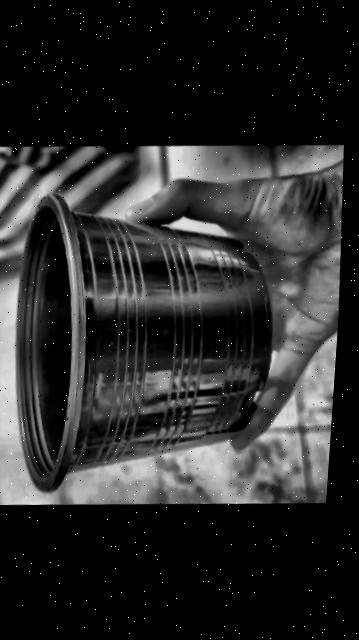pot: (15, 195, 271, 492)
